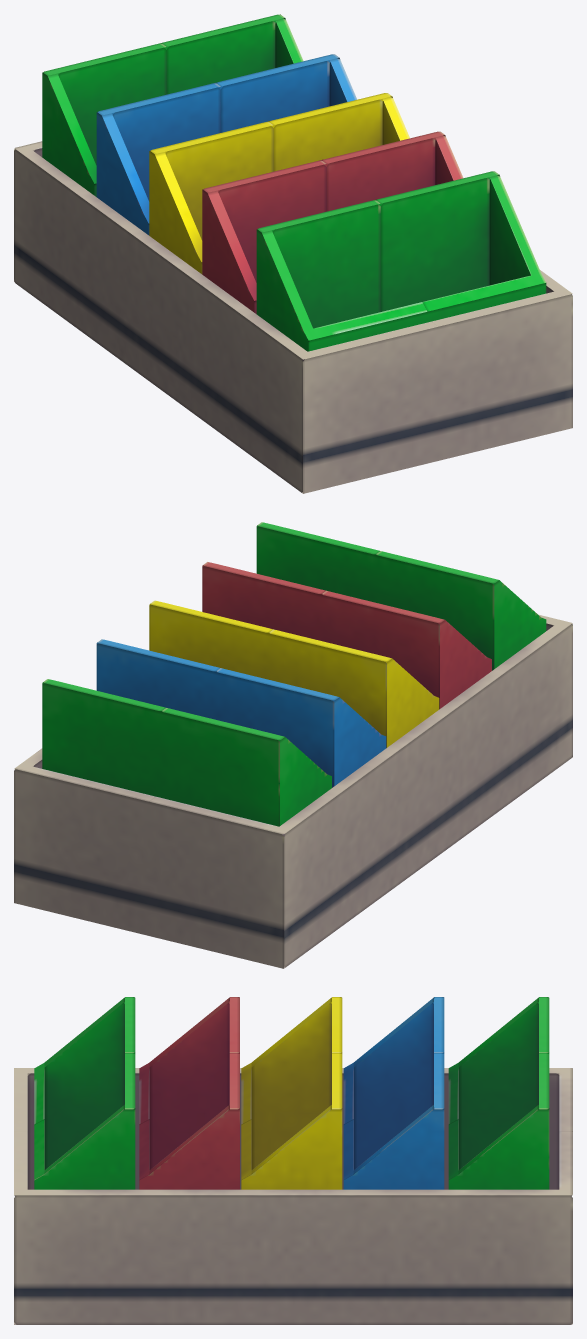
Rendered from floppycontainerempty.obj.
The picture shows the model from 3 angles, top to bottom: view 1: azimuth 30°, elevation 25°; view 2: azimuth 150°, elevation 25°; view 3: azimuth 270°, elevation 25°; orthographic projection. The views are drawn at different scales.
Visible parts, largest first — view 1: FloppyContainer(Empty); view 2: FloppyContainer(Empty); view 3: FloppyContainer(Empty).
Boxes of the visible parts, x1=… form: FloppyContainer(Empty): x1=14, y1=14, x2=572, y2=493; FloppyContainer(Empty): x1=14, y1=522, x2=572, y2=968; FloppyContainer(Empty): x1=14, y1=997, x2=572, y2=1324.
Bounding box in the file's own units: 0.3337 × 0.2544 × 0.6193.
1 material, 1 textured.
